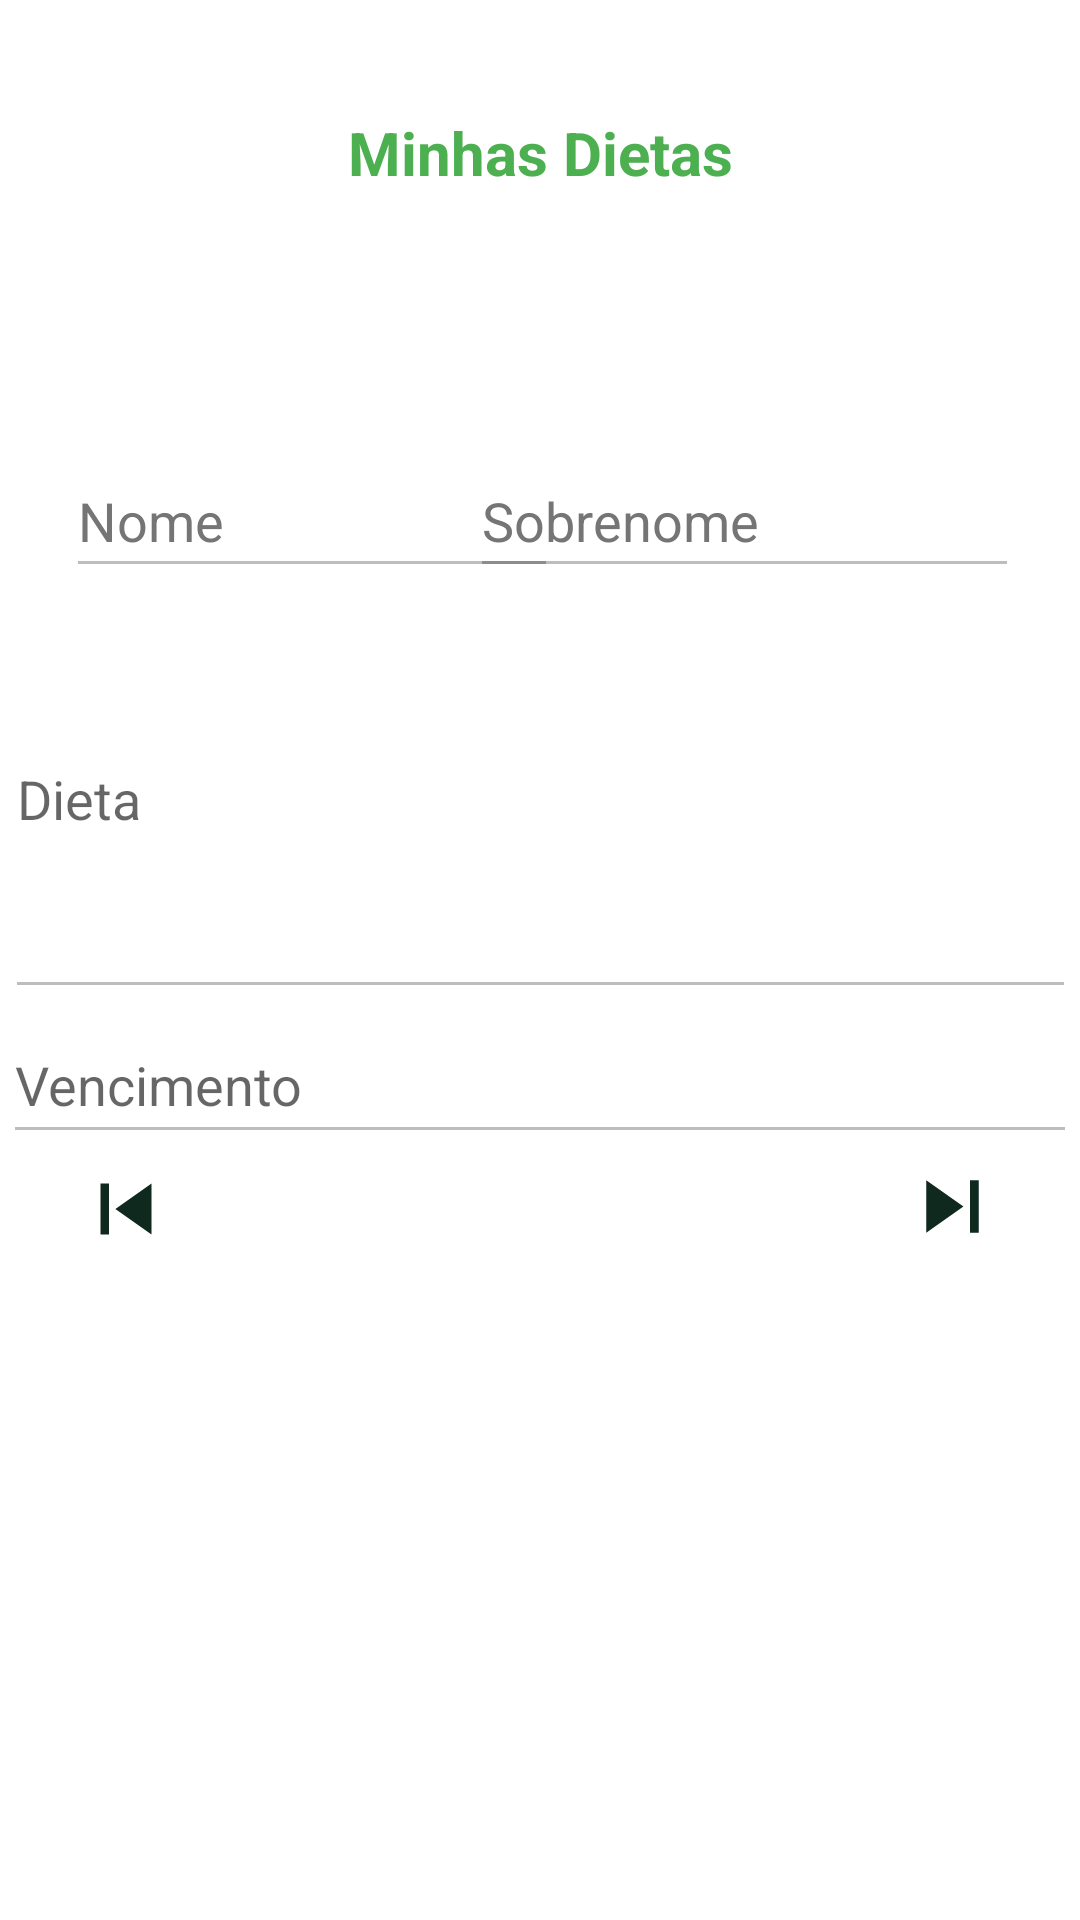

Screen size 1080px×1920px. Icon name, then its box in pixels as detection(x1, y1, x2, y2):
next: detection(926, 1180, 979, 1233)
previous: detection(100, 1183, 152, 1235)
